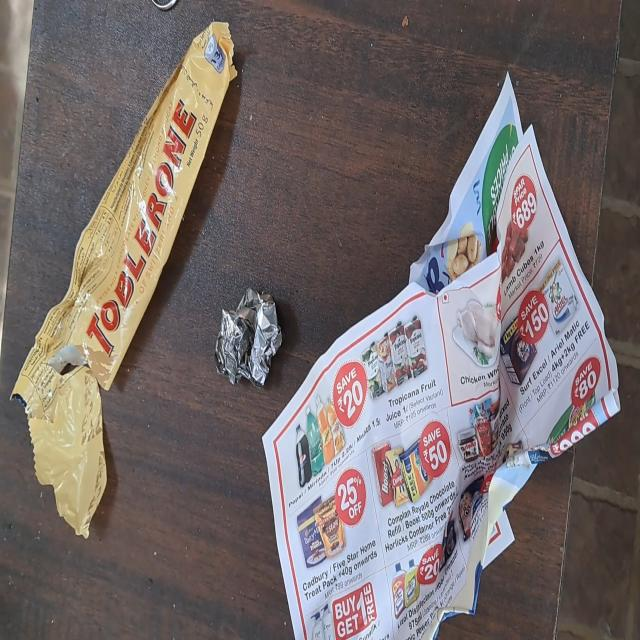Anorganik: (11, 24, 238, 536), (210, 290, 284, 381)
Organik: (275, 158, 585, 640)
